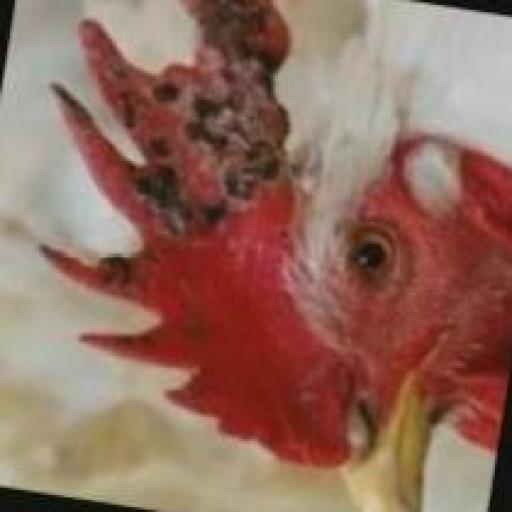disease: (50, 0, 283, 302), (321, 386, 388, 461)
